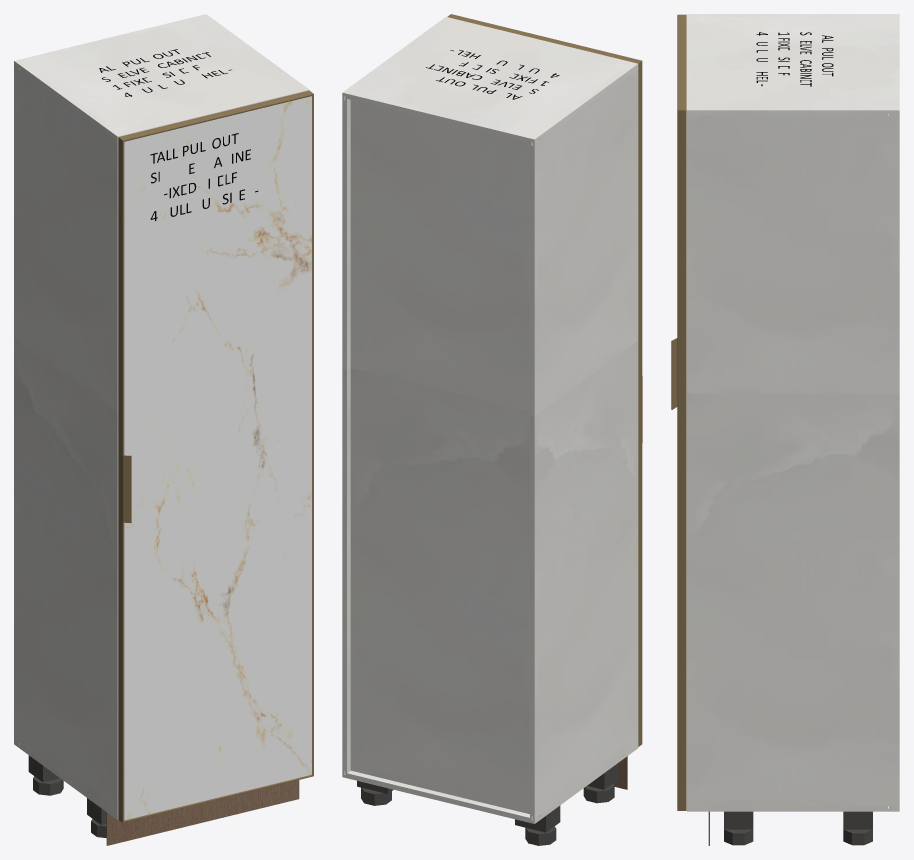
Rendered from TC-PO-TTS-ST-1SX-RHS-4PO-600-2040-560-15.glb.
The picture shows the model from 3 angles, left to right: view 1: azimuth 30°, elevation 25°; view 2: azimuth 150°, elevation 25°; view 3: azimuth 270°, elevation 25°; orthographic projection. The views are drawn at different scales.
Parts seen in each view (by area): view 1: Object_node_123, TP_node_0, TP, Extrusion_node_1, Object_node_125, Extrusion_node, Extrusion, 2D text_node, 2D text_node_0, ExtrSplGeo_node_2, TP_node; view 2: TP_node_7, TP_node_0, TP, TP_node_1, Extrusion_node_1, TP_node, Extrusion, 2D text_node_0; view 3: TP_node_1, TP, Extrusion_node, TP_node, Extrusion, 2D text_node_0, Plate_node, Plate_node_1, ExtrSplGeo_node_2, Foot_node_1, Foot_node.
Part boxes in pixels (<box>): Object_node_123: <box>124,96,311,820</box>; TP_node_0: <box>14,66,118,814</box>; TP: <box>14,14,309,141</box>; Extrusion_node_1: <box>118,137,124,822</box>; Object_node_125: <box>106,780,299,845</box>; Extrusion_node: <box>312,94,313,775</box>; Extrusion: <box>118,90,313,141</box>; 2D text_node: <box>150,133,258,221</box>; 2D text_node_0: <box>99,49,231,96</box>; ExtrSplGeo_node_2: <box>122,455,131,523</box>; TP_node: <box>14,739,118,819</box>; TP_node_7: <box>350,100,529,814</box>; TP_node_0: <box>530,69,638,818</box>; TP: <box>342,17,638,144</box>; TP_node_1: <box>342,97,350,772</box>; Extrusion_node_1: <box>638,61,642,746</box>; TP_node: <box>342,743,638,823</box>; Extrusion: <box>447,14,641,63</box>; 2D text_node_0: <box>426,50,559,99</box>; TP_node_1: <box>687,114,899,806</box>; TP: <box>687,14,899,115</box>; Extrusion_node: <box>677,110,686,810</box>; TP_node: <box>687,806,899,811</box>; Extrusion: <box>677,14,686,110</box>; 2D text_node_0: <box>756,32,833,86</box>; Plate_node: <box>843,811,872,829</box>; Plate_node_1: <box>724,811,753,829</box>; ExtrSplGeo_node_2: <box>671,338,677,409</box>; Foot_node_1: <box>724,829,753,845</box>; Foot_node: <box>843,829,872,845</box>.
Size of what is drawn, in the model's own units: 0.6 by 2.15 by 0.6012.
9 materials, 3 textured.
